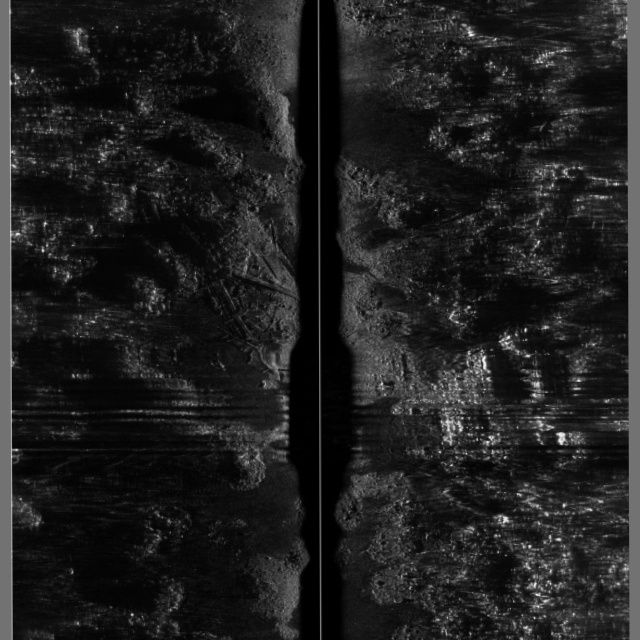Shipwreck: (201, 219, 363, 373)
